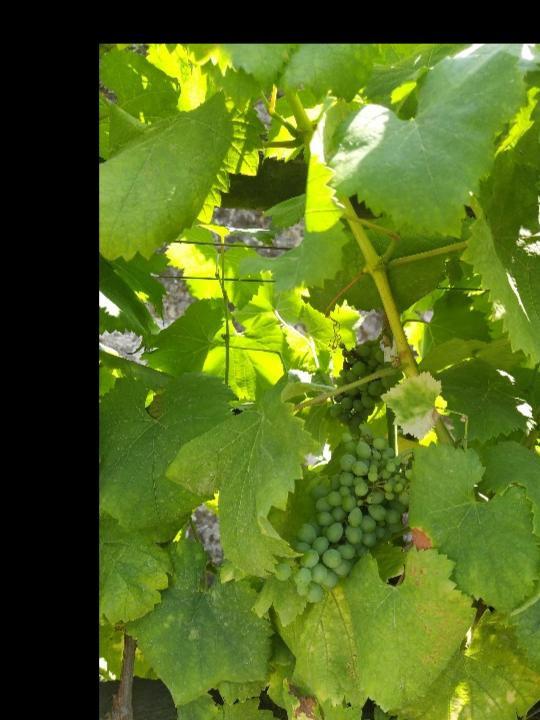grape: (271, 431, 415, 605), (327, 337, 406, 433)
